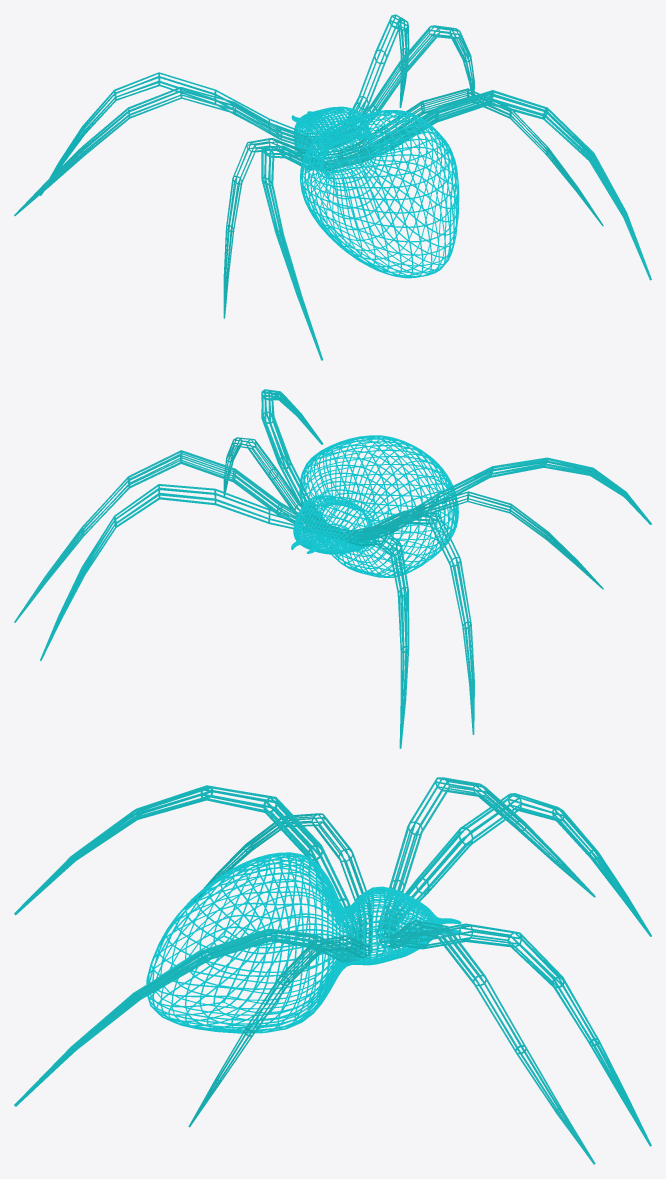
The model's file is net1.gltf.
The picture shows the model from 3 angles, top to bottom: view 1: azimuth 30°, elevation 25°; view 2: azimuth 150°, elevation 25°; view 3: azimuth 270°, elevation 25°; orthographic projection. The views are drawn at different scales.
Parts seen in each view (by area): view 1: BODY, 4, 2, 3, 1; view 2: BODY, 2, 1, 4, 3; view 3: BODY, 4, 1, 2, 3.
Boxes of the visible parts, left/top/right/bottom form: BODY: left=291, top=106, right=459, bottom=278; 4: left=261, top=90, right=651, bottom=360; 2: left=14, top=25, right=474, bottom=215; 3: left=223, top=88, right=603, bottom=318; 1: left=40, top=14, right=409, bottom=195; BODY: left=291, top=435, right=458, bottom=577; 2: left=14, top=450, right=474, bottom=734; 1: left=40, top=484, right=409, bottom=748; 4: left=261, top=389, right=651, bottom=542; 3: left=223, top=437, right=603, bottom=589; BODY: left=146, top=852, right=461, bottom=1033; 4: left=14, top=785, right=362, bottom=1106; 1: left=383, top=793, right=651, bottom=1146; 2: left=376, top=777, right=595, bottom=1164; 3: left=188, top=813, right=372, bottom=1127.
Bounding box in the file's own units: 4.47 × 1.48 × 4.49.
